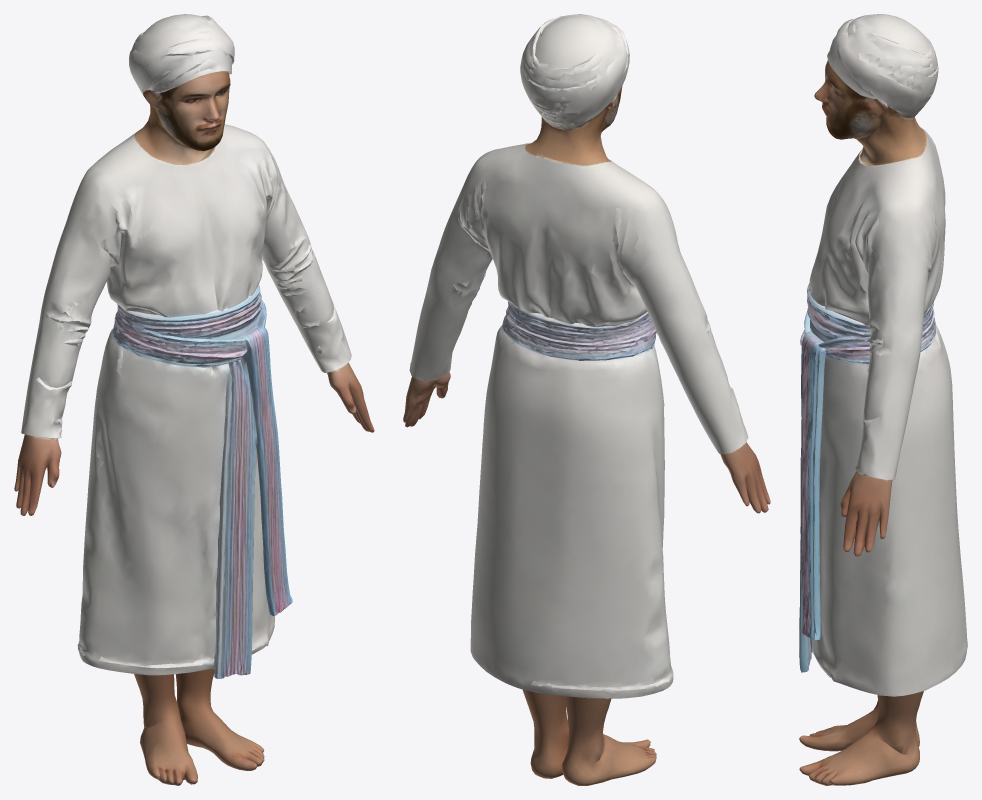
Rendered from cohen_2.glb.
3 renders of one model, left to right at view 1: azimuth 30°, elevation 25°; view 2: azimuth 150°, elevation 25°; view 3: azimuth 270°, elevation 25°, orthographic. The views are drawn at different scales.
Parts seen in each view (by area): view 1: Mesh; view 2: Mesh; view 3: Mesh.
Part boxes in pixels (bbox=[...]): Mesh: bbox=[14, 14, 374, 785]; Mesh: bbox=[403, 14, 770, 785]; Mesh: bbox=[799, 14, 967, 785].
Bounding box in the file's own units: 0.9463 × 1.9 × 0.3907.
Materials: 1 (1 with a texture image).
